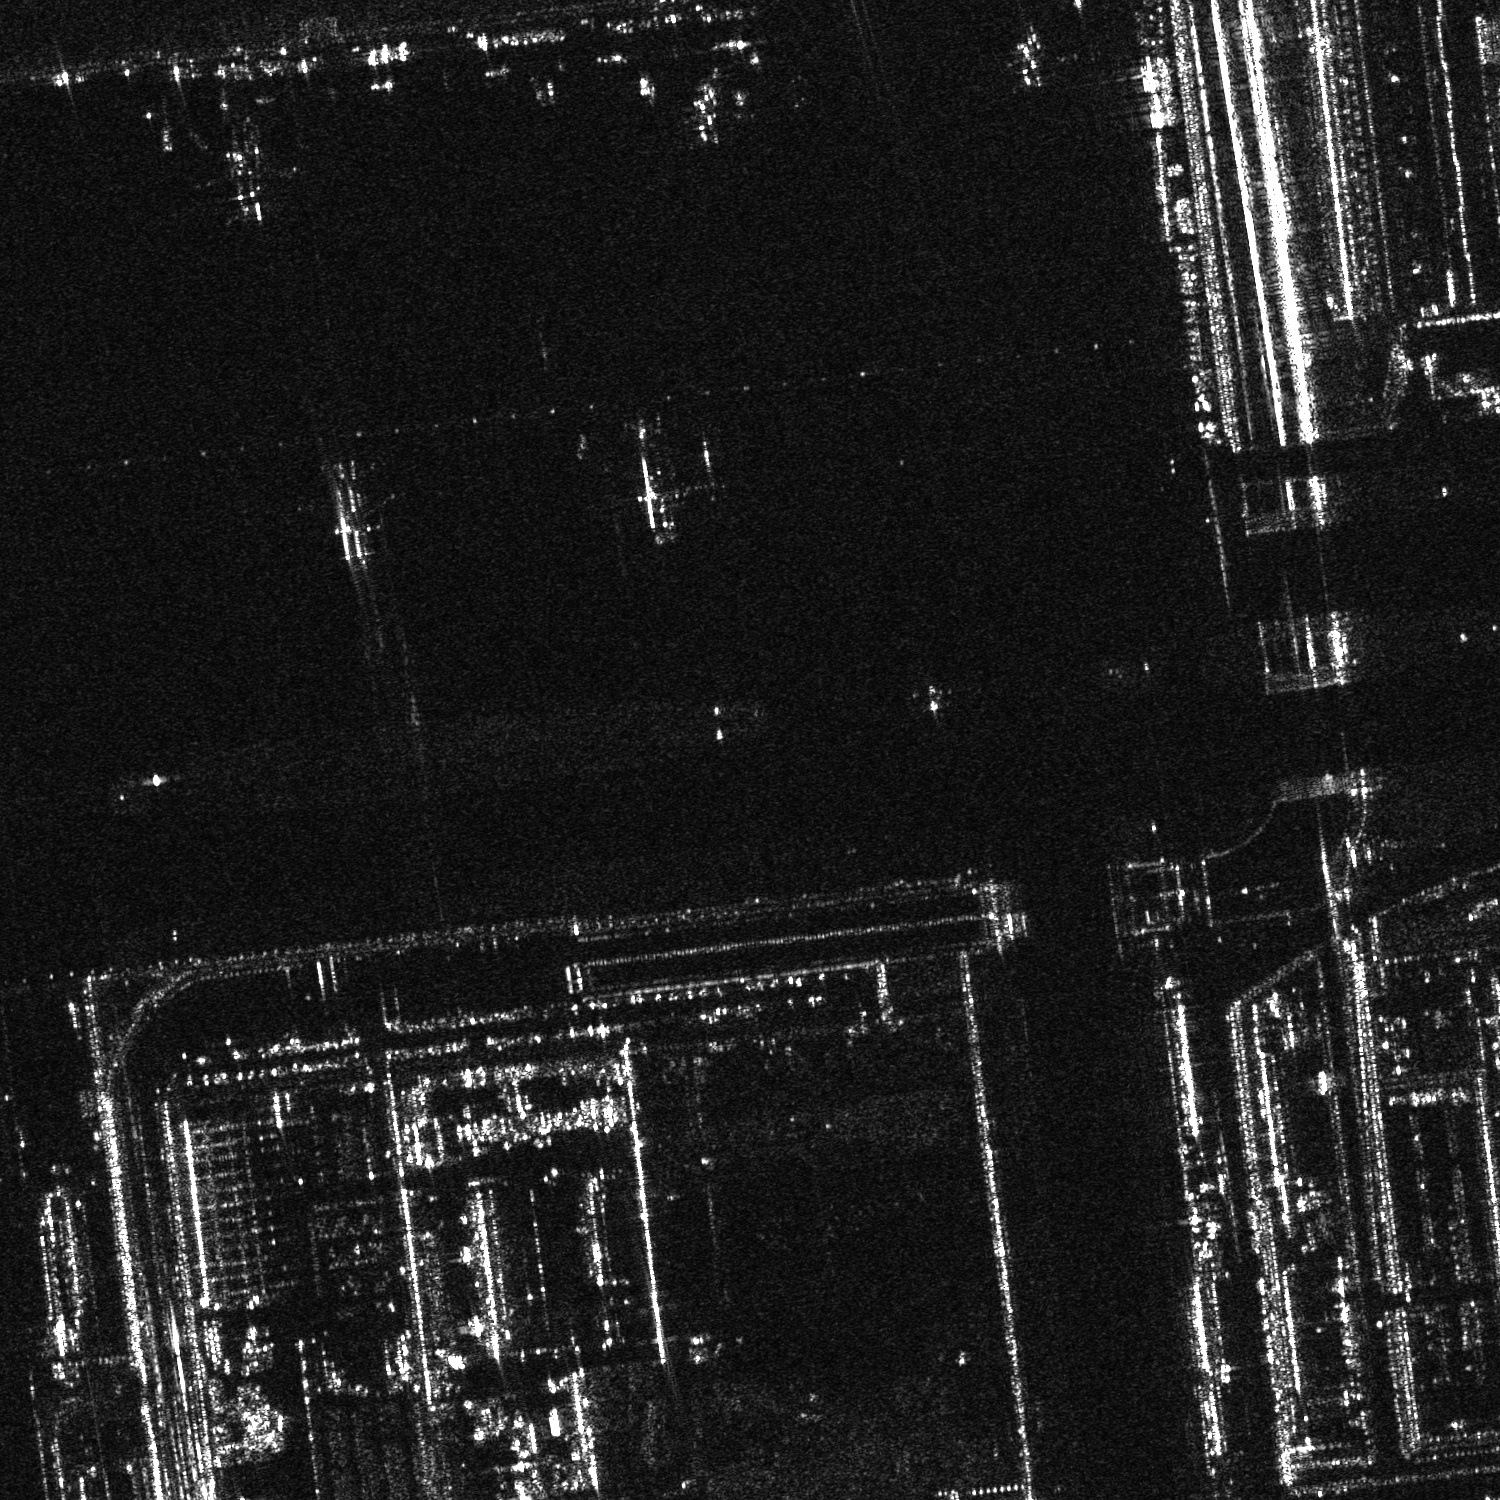A220: (665, 66, 749, 146)
A320/321: (191, 115, 299, 229), (999, 29, 1065, 93)
